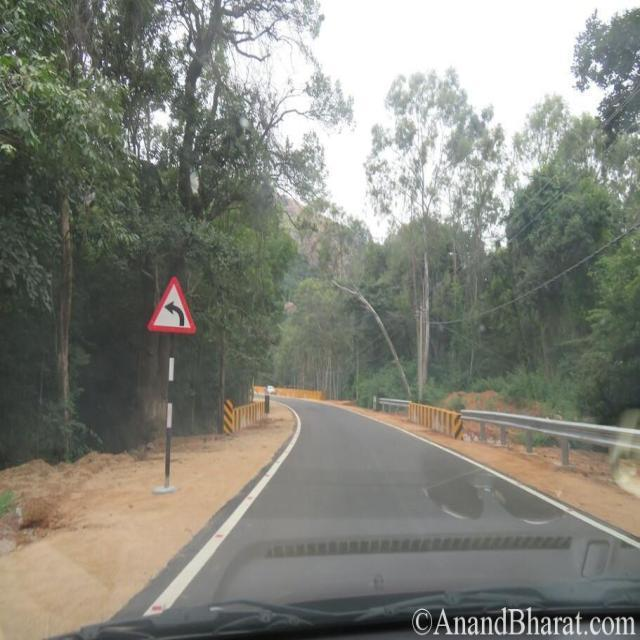left hand curve: (146, 276, 197, 334)
